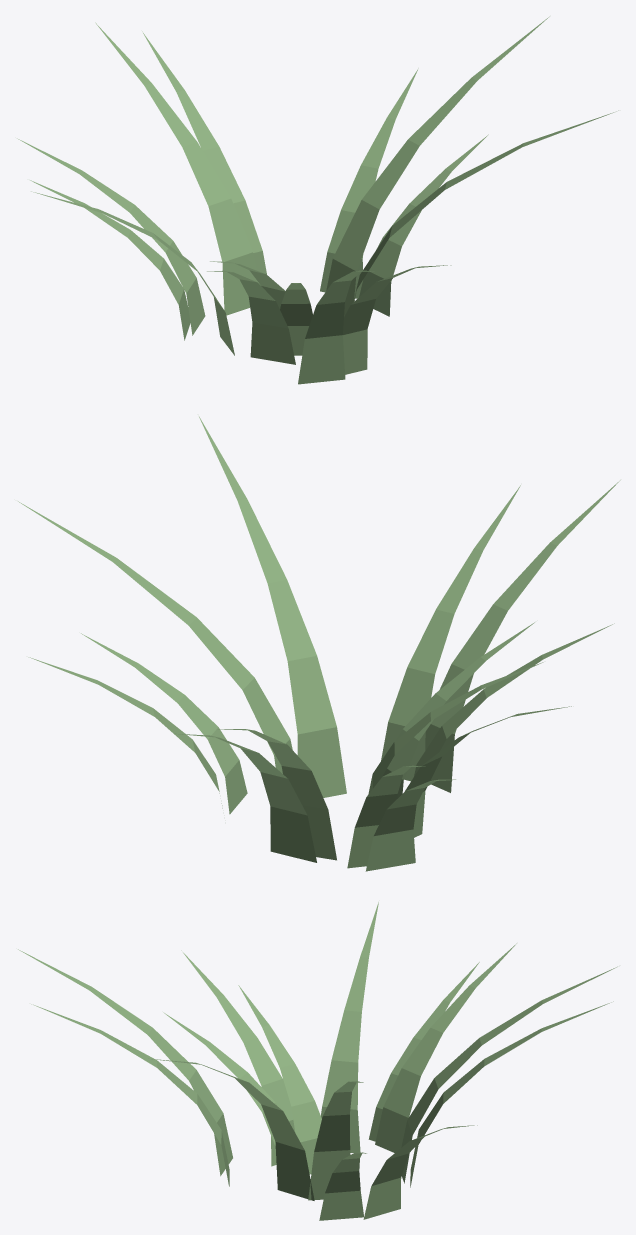
File: woodrush-clump.glb
The picture shows the model from 3 angles, top to bottom: view 1: azimuth 30°, elevation 25°; view 2: azimuth 150°, elevation 25°; view 3: azimuth 270°, elevation 25°; orthographic projection. The views are drawn at different scales.
Visible parts, largest first — view 1: woodrush-clump; view 2: woodrush-clump; view 3: woodrush-clump.
Part boxes in pixels (<box>): woodrush-clump: <box>17,16,618,384</box>; woodrush-clump: <box>18,416,620,871</box>; woodrush-clump: <box>18,902,617,1220</box>.
Bounding box in the file's own units: 0.7554 × 0.3382 × 0.8261.
